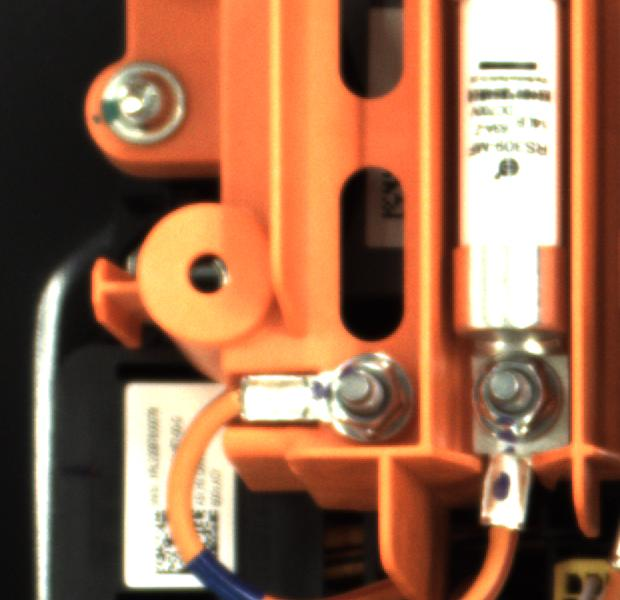screw_m: (83, 60, 215, 155)
screw_s: (458, 347, 569, 439), (311, 348, 412, 443)
